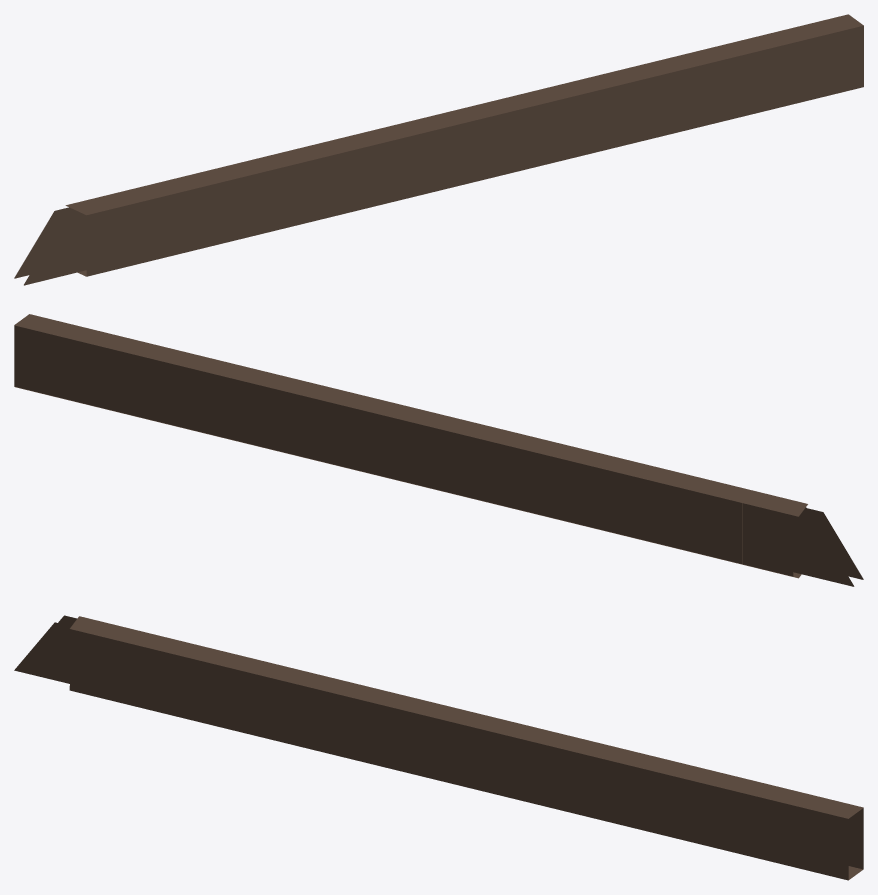
The model's file is DBK_Molding_Top_End_B_Mirror.fbx.
The picture shows the model from 3 angles, top to bottom: view 1: azimuth 30°, elevation 25°; view 2: azimuth 150°, elevation 25°; view 3: azimuth 330°, elevation 25°; orthographic projection.
Visible parts, largest first — view 1: DBK_Molding_Top_End_B_Mirror; view 2: DBK_Molding_Top_End_B_Mirror; view 3: DBK_Molding_Top_End_B_Mirror.
Boxes of the visible parts, x1,y1,x2,y2 form: DBK_Molding_Top_End_B_Mirror: (14, 14, 863, 285); DBK_Molding_Top_End_B_Mirror: (14, 314, 863, 586); DBK_Molding_Top_End_B_Mirror: (14, 615, 863, 880).
Size of the model in its own units: 142 by 10 by 4.56.
